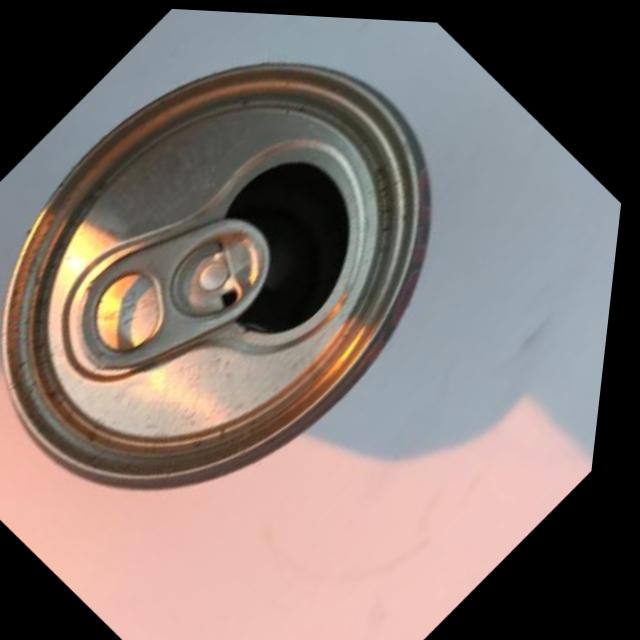metal: (0, 0, 572, 631)
